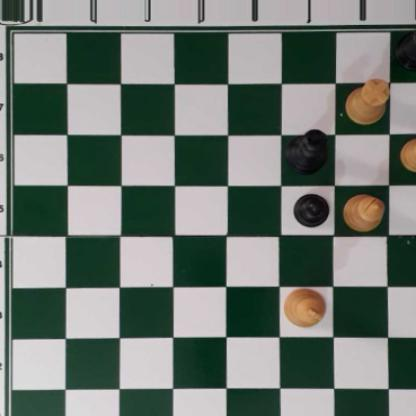black-king: (284, 130, 326, 174)
black-pawn: (292, 192, 329, 226)
black-rook: (393, 20, 416, 71)
white-bishop: (343, 192, 386, 231)
white-king: (281, 286, 327, 328)
white-pawn: (399, 136, 416, 173)
white-rook: (345, 77, 391, 124)
